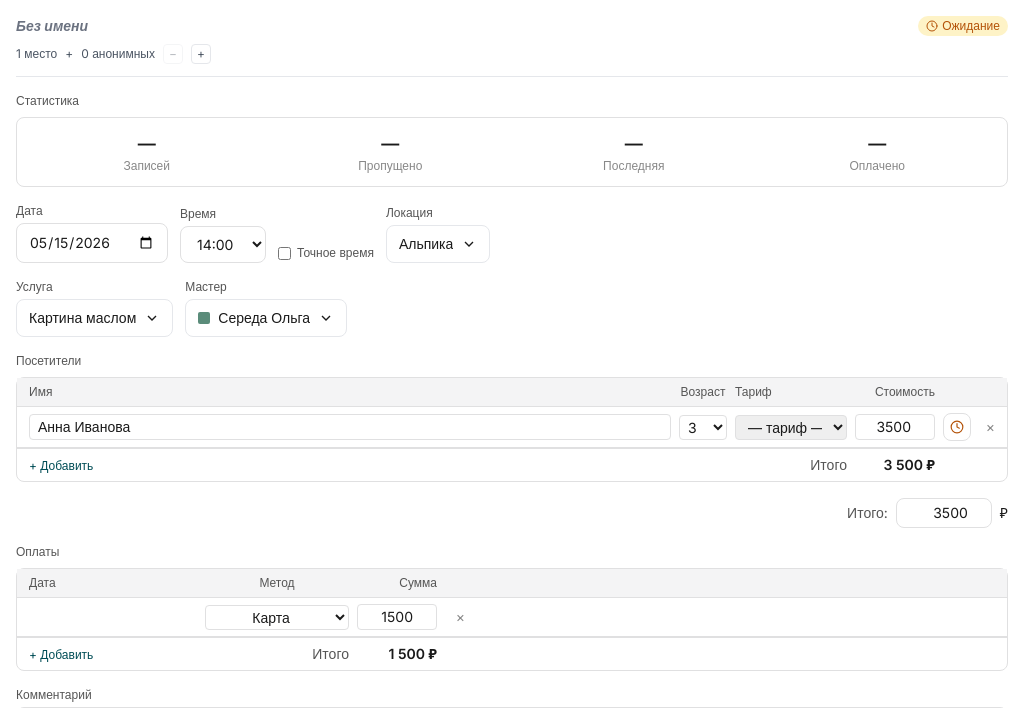
ClientRecordTab — layout › renders all service options in dropdown
What coordinates should you click on to do the following:
click the button with test id "combobox-trigger" showing "Картина маслом"
I would click on:
 (95, 318)
Its box is [16,299,173,337].
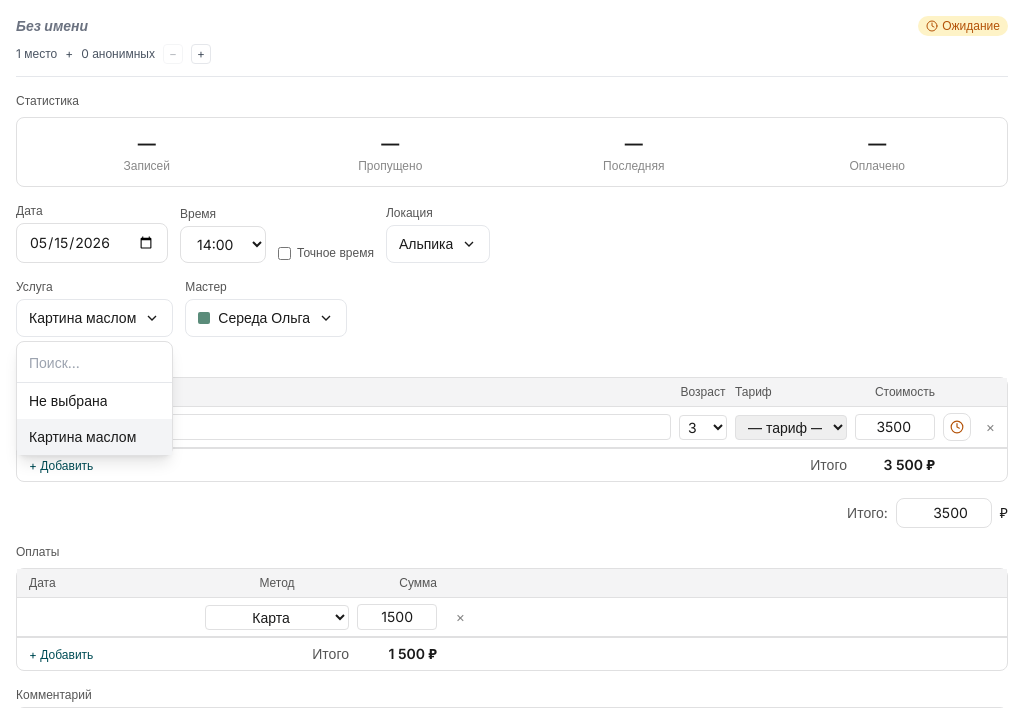
Expected: the element with test id "combobox-dropdown" shows "Не выбрана", [17,383,172,419]
